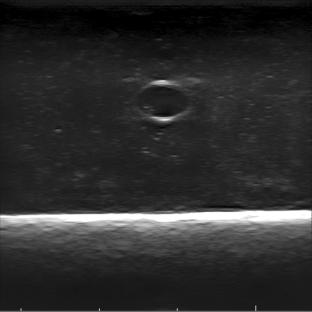vessel: (135, 78, 193, 122)
